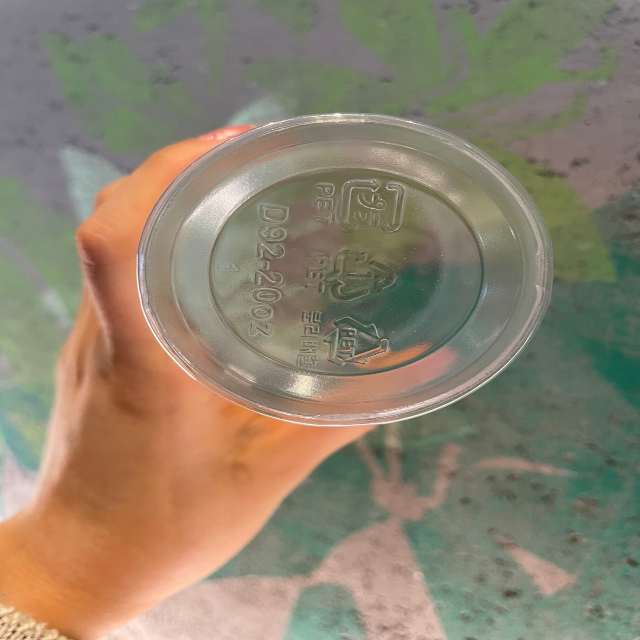pet: (304, 170, 407, 239), (302, 240, 400, 308), (296, 308, 394, 375)
